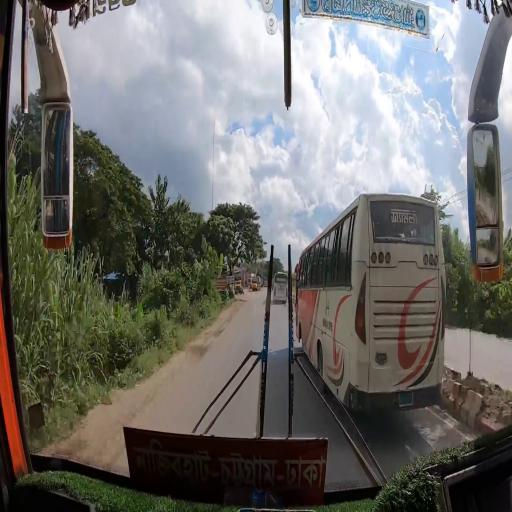bus: (295, 191, 443, 415), (274, 273, 289, 305)
truck: (252, 278, 259, 291)
